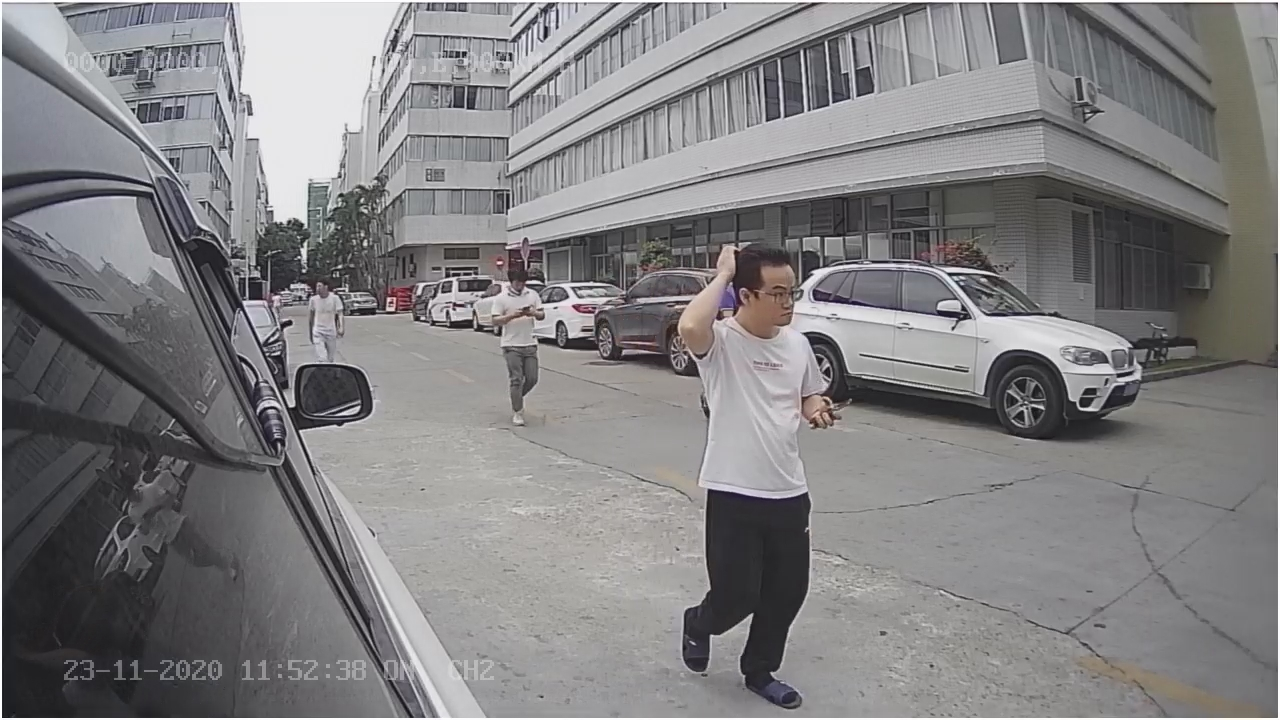person: (681, 237, 825, 693)
